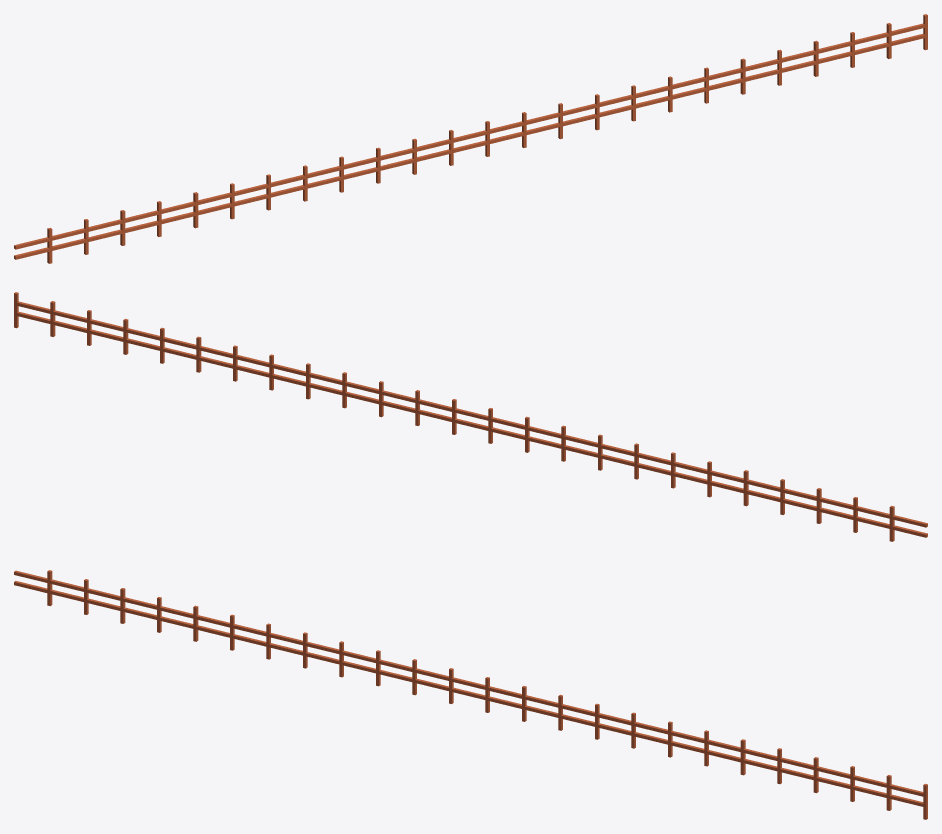
File: side_fence.glb
The picture shows the model from 3 angles, top to bottom: view 1: azimuth 30°, elevation 25°; view 2: azimuth 150°, elevation 25°; view 3: azimuth 330°, elevation 25°; orthographic projection.
Parts seen in each view (by area): view 1: Cube; view 2: Cube; view 3: Cube.
Boxes of the visible parts, x1,y1,x2,y2 form: Cube: (14, 14, 927, 263); Cube: (14, 292, 927, 541); Cube: (14, 570, 927, 819).
Size of the model in its own units: 25.34 by 0.9097 by 0.0832.
Materials: 1 (1 with a texture image).
